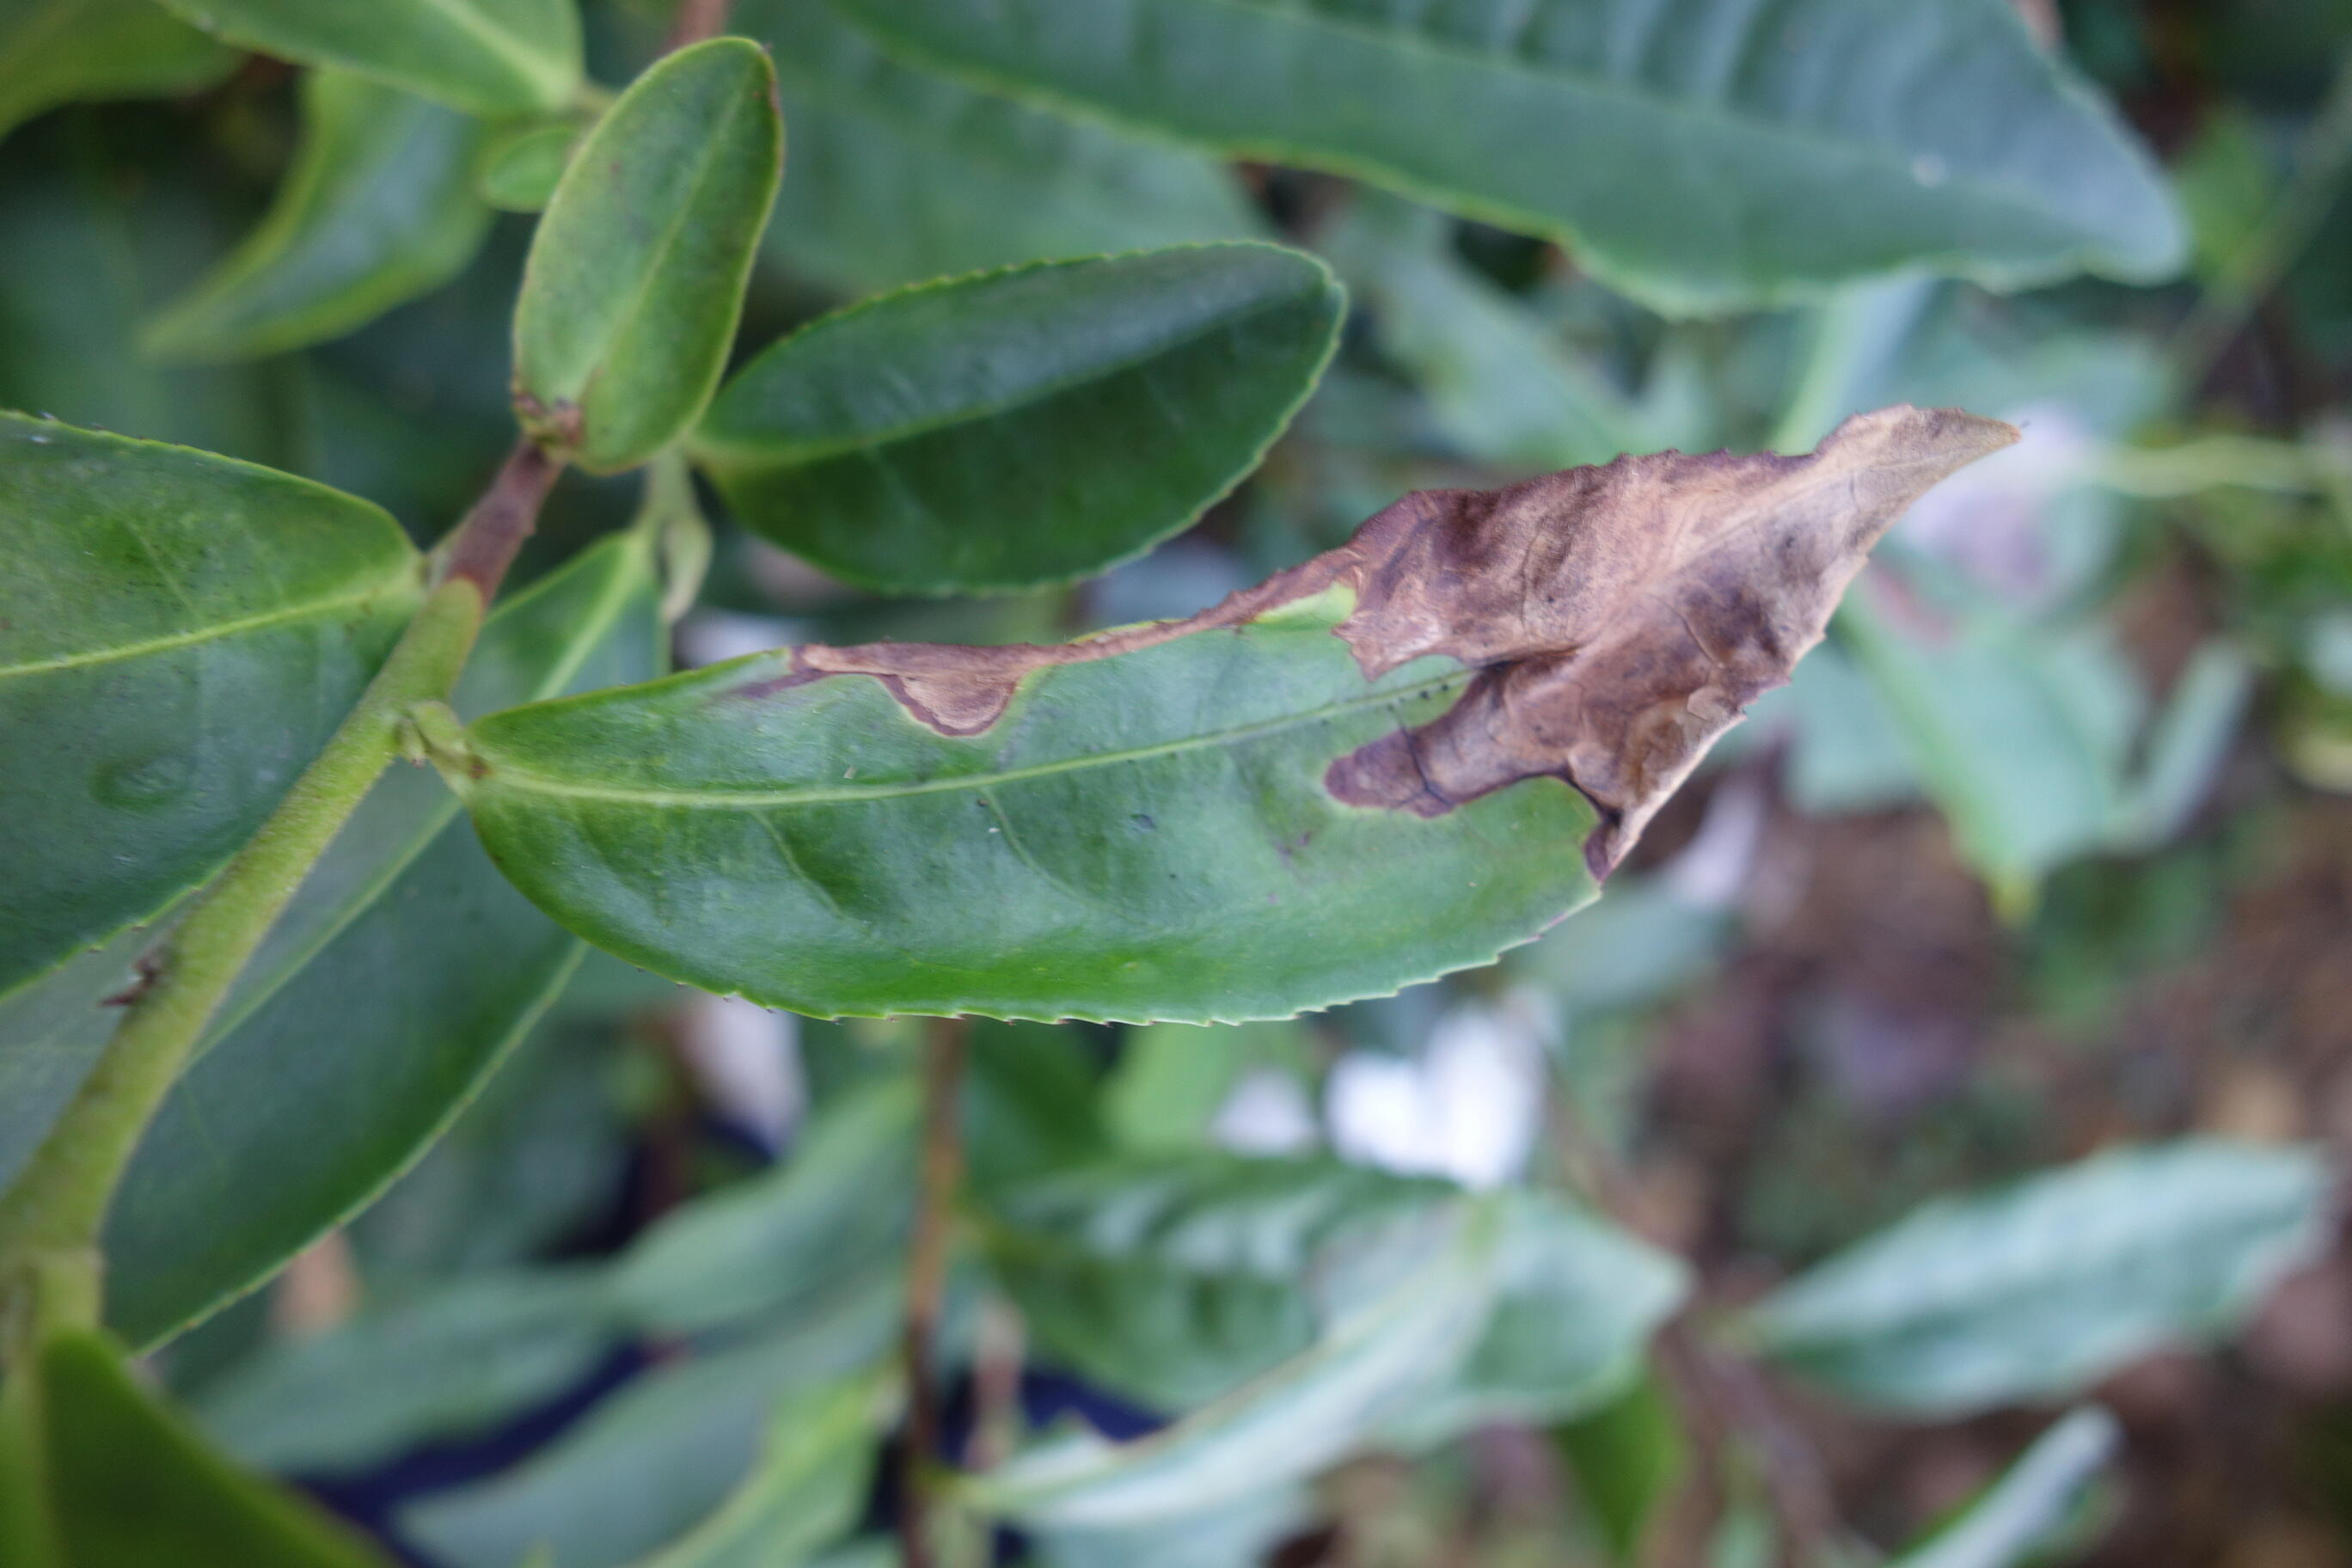tanju_high: (465, 409, 2028, 1027)
